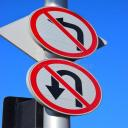NoVirarEsquerda: (29, 4, 99, 59)
NoVirarU: (27, 59, 106, 116)
